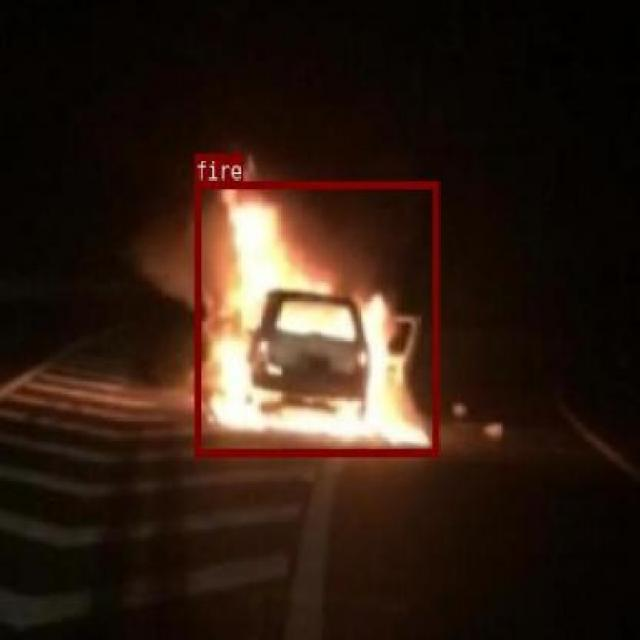fire: (194, 179, 437, 455)
